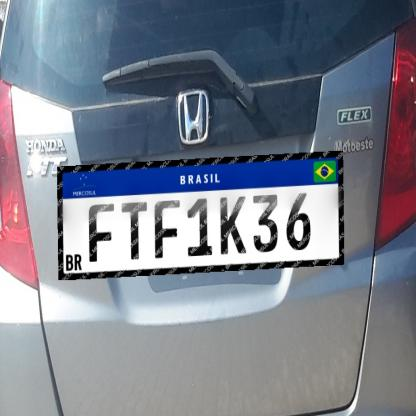PlacaM: (57, 151, 344, 280)
